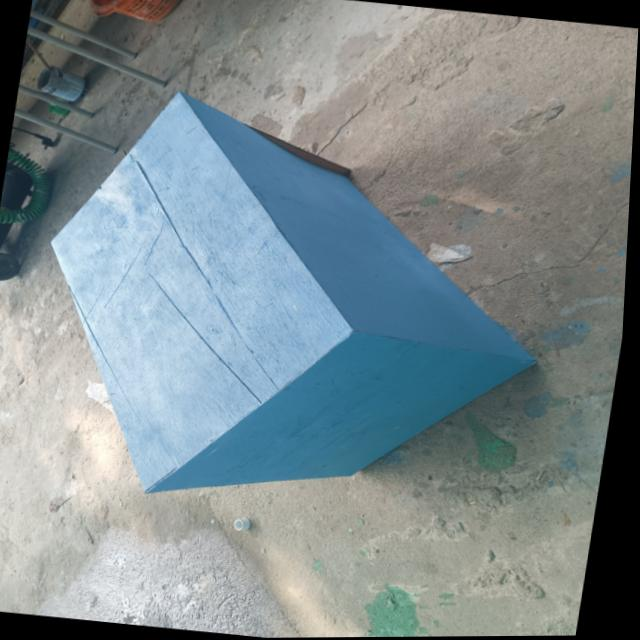blue_box: (15, 79, 567, 525)
